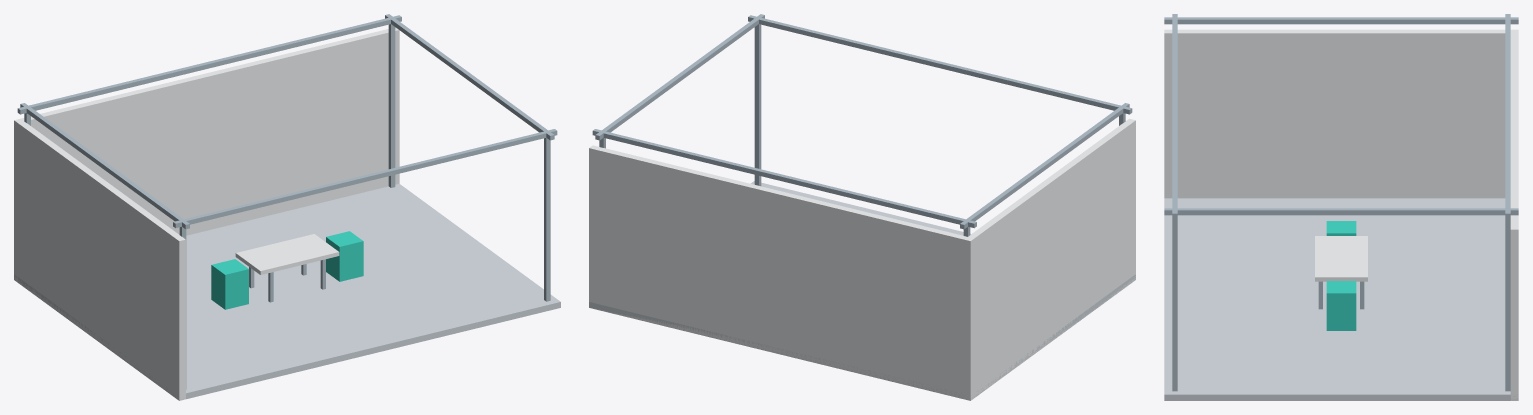
The picture shows the model from 3 angles, left to right: view 1: azimuth 30°, elevation 25°; view 2: azimuth 150°, elevation 25°; view 3: azimuth 270°, elevation 25°; orthographic projection. The views are drawn at different scales.
Visible parts, largest first — view 1: Exhibition Booth Concept; view 2: Exhibition Booth Concept; view 3: Exhibition Booth Concept.
Part boxes in pixels (x1=…): Exhibition Booth Concept: x1=14, y1=14, x2=560, y2=400; Exhibition Booth Concept: x1=589, y1=14, x2=1135, y2=400; Exhibition Booth Concept: x1=1164, y1=14, x2=1518, y2=400.
Bounding box in the file's own units: 8 × 3.49 × 6.
